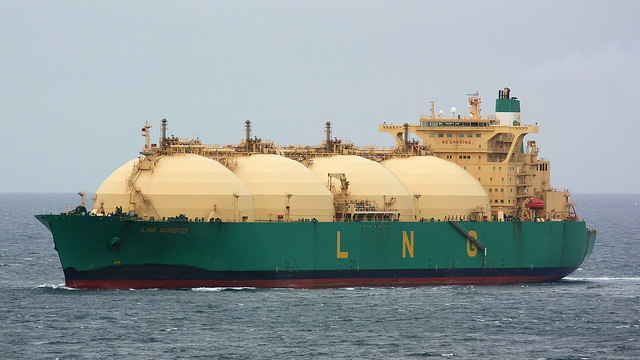LNG_ship: (35, 89, 603, 287)
